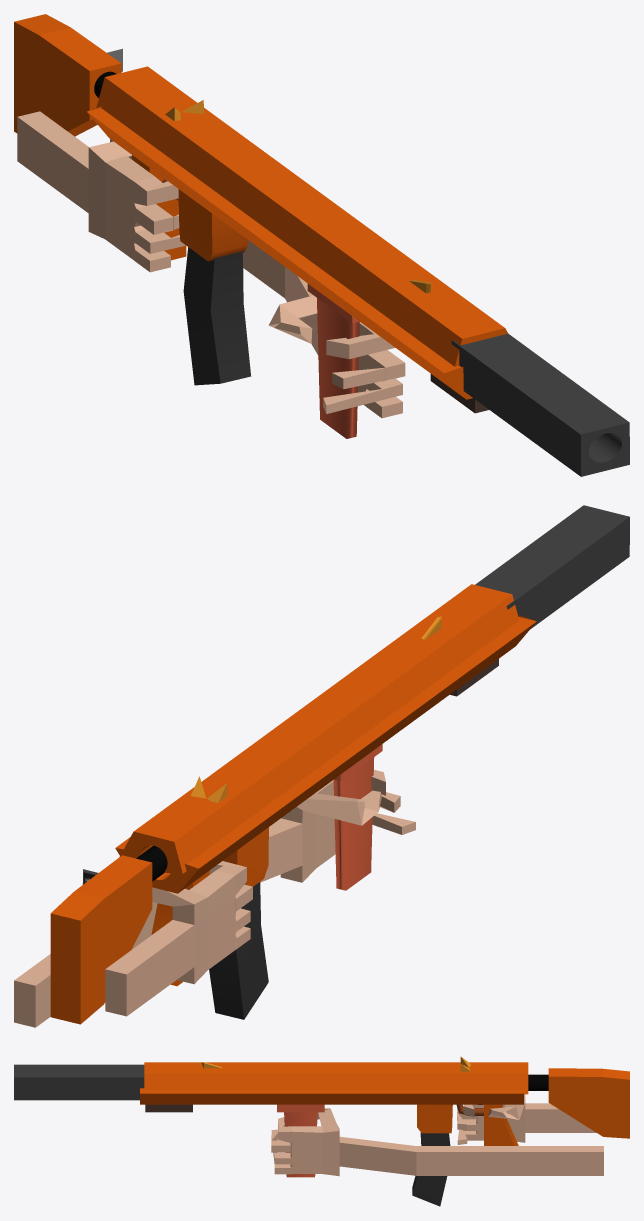
The model's file is ar reload 1.fbx.
3 views of the same model, one above another, from view 1: azimuth 30°, elevation 25°; view 2: azimuth 150°, elevation 25°; view 3: azimuth 270°, elevation 25° (orthographic). The views are drawn at different scales.
Visible parts, largest first — view 1: Cube.011, Cube.005, Cube, Cube.008, Cube.009, Cube.013, Cube.004, Cube.012, Cube.010, Cube.002; view 2: Cube.011, Cube, Cube.009, Cube.013, Cube.005, Cube.008, Cube.004, Cube.012, Cube.010; view 3: Cube.013, Cube.011, Cube.008, Cube.005, Cube.009, Cube, Cube.004, Cube.010, Cube.012, Cube.002, Cube.003, Cylinder.002.
Boxes of the visible parts, x1,y1,x2,y2 form: Cube.011: [96, 66, 507, 366]; Cube.005: [451, 333, 629, 476]; Cube: [17, 111, 185, 272]; Cube.008: [87, 106, 472, 399]; Cube.009: [14, 14, 121, 136]; Cube.013: [110, 139, 405, 418]; Cube.004: [183, 247, 251, 385]; Cube.012: [307, 284, 359, 438]; Cube.010: [178, 189, 248, 261]; Cube.002: [132, 155, 186, 260]; Cube.011: [119, 584, 519, 873]; Cube: [105, 861, 252, 1016]; Cube.009: [50, 855, 152, 1024]; Cube.013: [14, 770, 415, 1027]; Cube.005: [475, 505, 629, 629]; Cube.008: [115, 615, 536, 893]; Cube.004: [209, 882, 268, 1019]; Cube.012: [333, 744, 382, 890]; Cube.010: [223, 827, 268, 886]; Cube.013: [271, 1108, 603, 1176]; Cube.011: [144, 1062, 528, 1094]; Cube.008: [140, 1088, 523, 1104]; Cube.005: [14, 1064, 144, 1100]; Cube.009: [548, 1068, 629, 1138]; Cube: [457, 1094, 596, 1144]; Cube.004: [412, 1132, 450, 1206]; Cube.010: [417, 1104, 452, 1133]; Cube.012: [277, 1104, 324, 1177]; Cube.002: [484, 1104, 518, 1145]; Cube.003: [145, 1104, 192, 1112]; Cylinder.002: [528, 1074, 548, 1090].
Size of the model in its own units: 224 by 464 by 1822.
11 materials, 1 textured.
